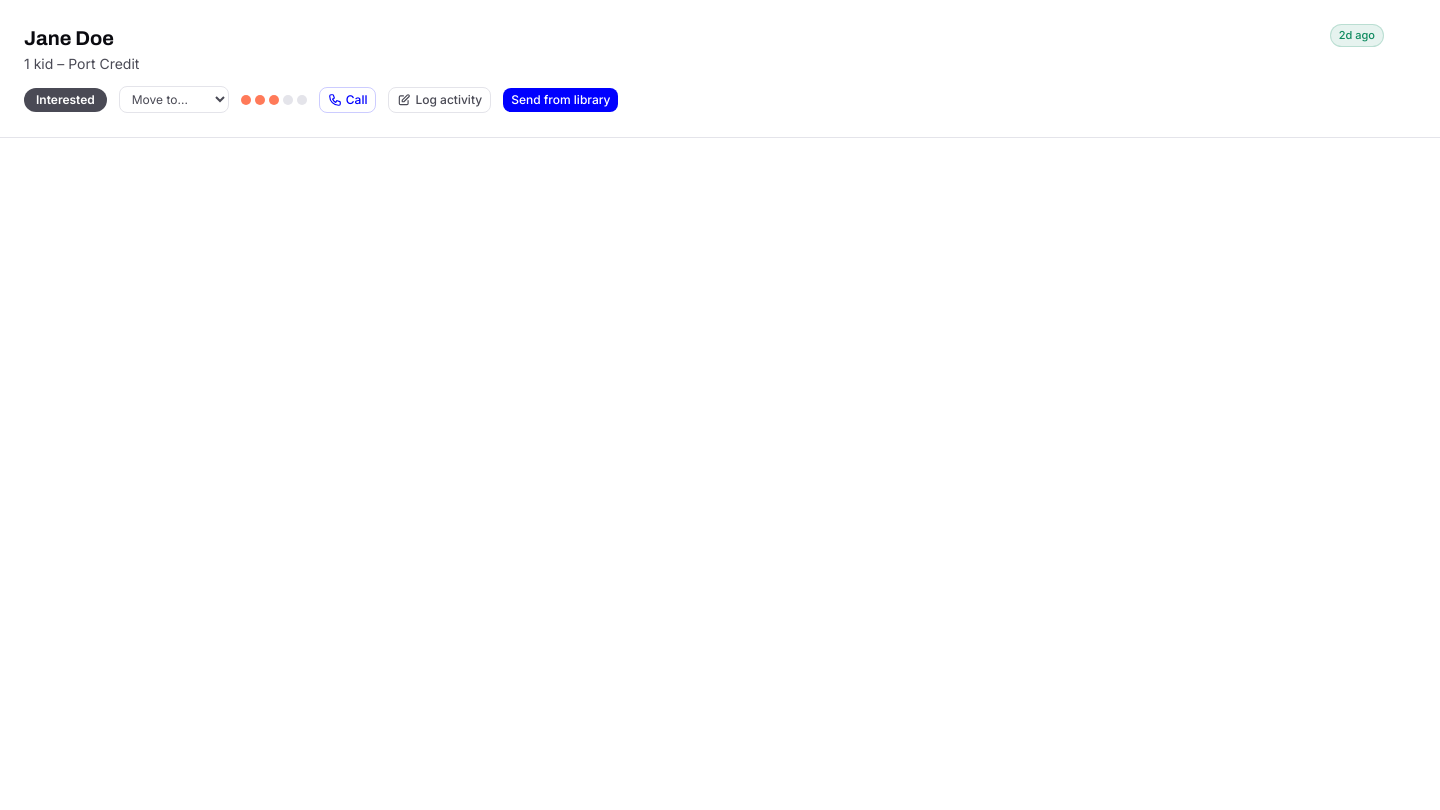
Contact Drawer - Send from library integration › selecting a library item opens SendComposer with prospect pre-filled
This screenshot has width=1440, height=810.
Note: Open picker
Click the button "Send from library" at (561, 100), box [503,88,618,112]
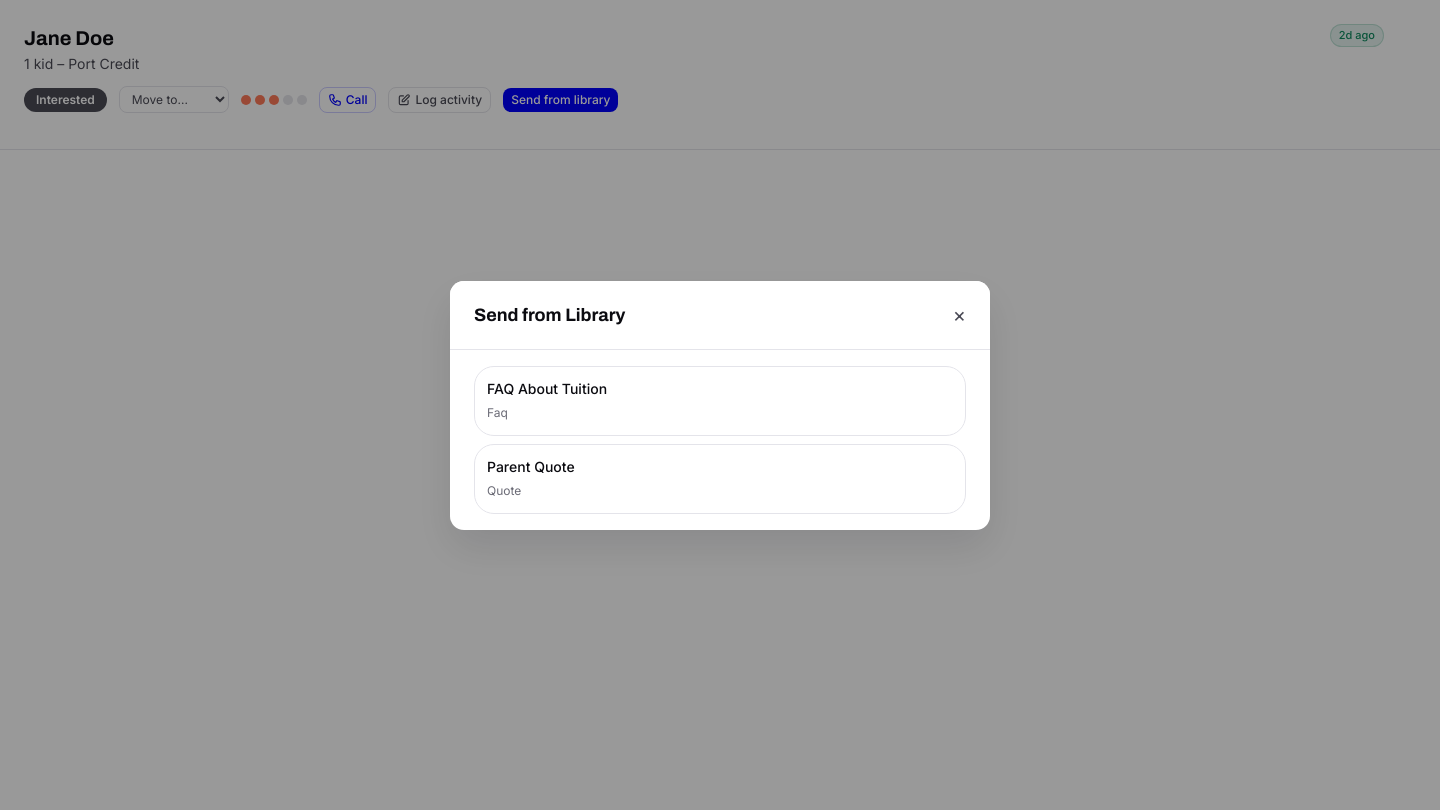
Note: Select a library item
Click the text "FAQ About Tuition" at (547, 388), box [487,380,607,396]
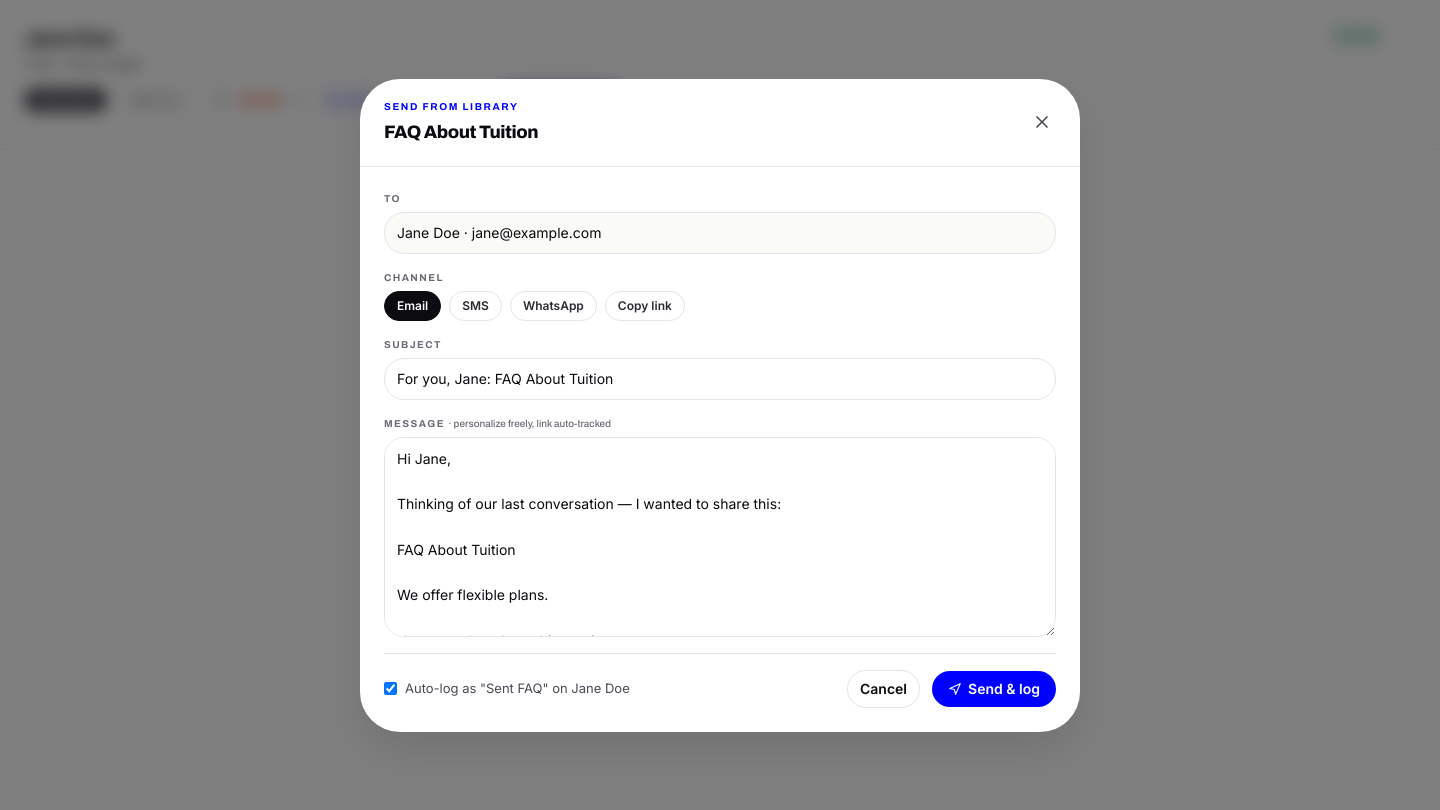
Now the dialog "Send from library" is shown
Now the 1st field showing "Jane Doe" is shown, box [384,212,1056,254]
